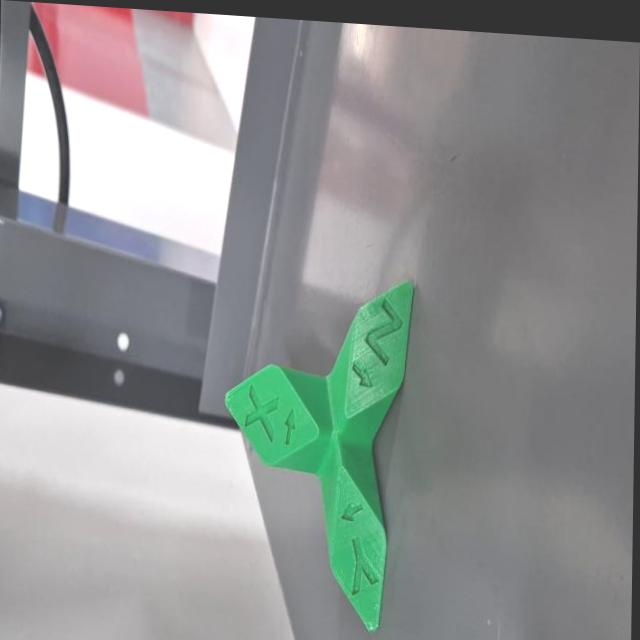eje: (216, 262, 419, 640)
